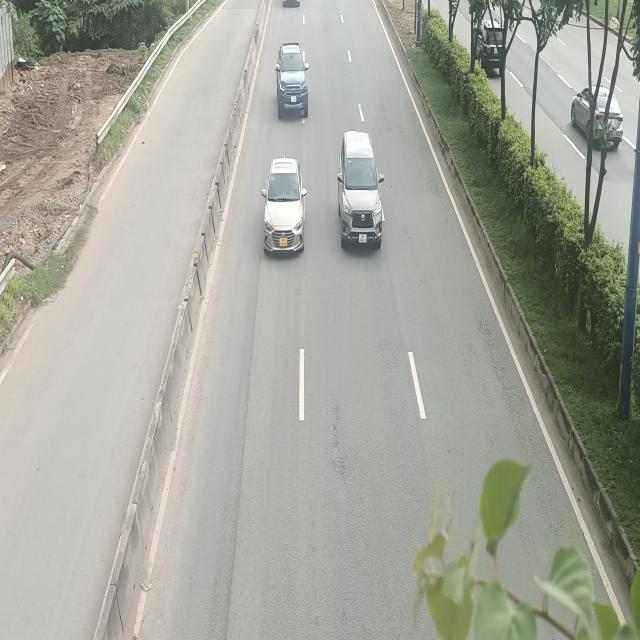car: (338, 133, 385, 252), (262, 160, 306, 258), (274, 42, 308, 117)
